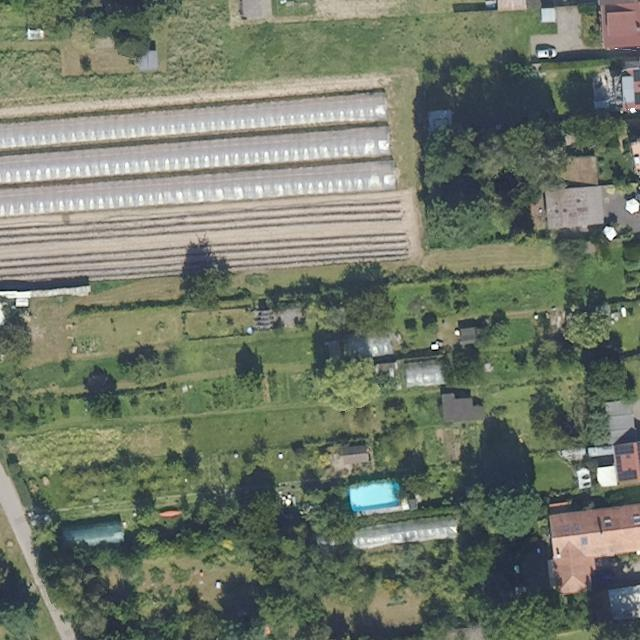PV: (614, 442, 637, 482)
